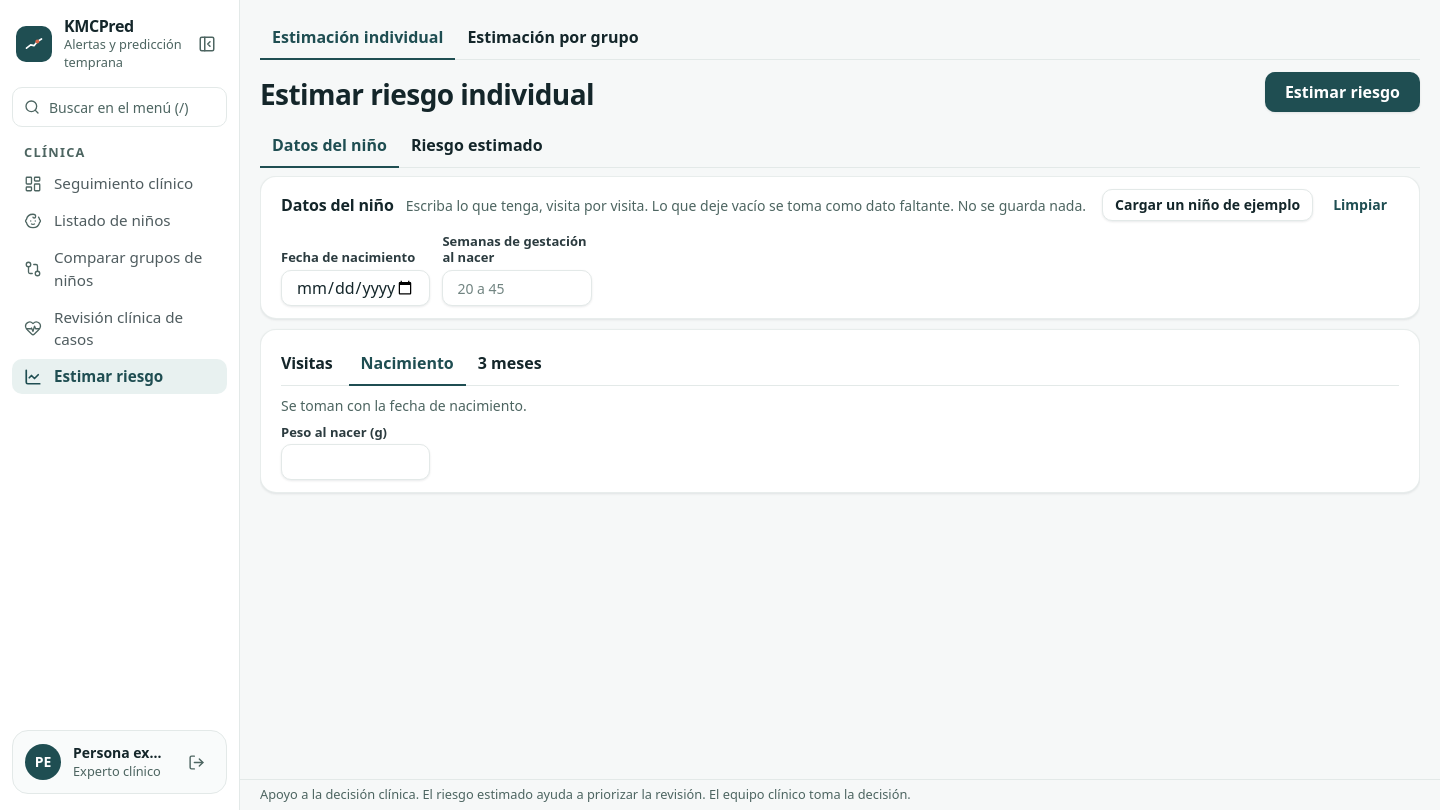
it: Calcular un niño en pestañas › al calcular aparecen las pestañas del resultado y se abre la primera
This screenshot has width=1440, height=810.
Type "2026-01-10" into the date field labelled "Fecha de nacimiento" at (356, 288), box [281,270,430,306]
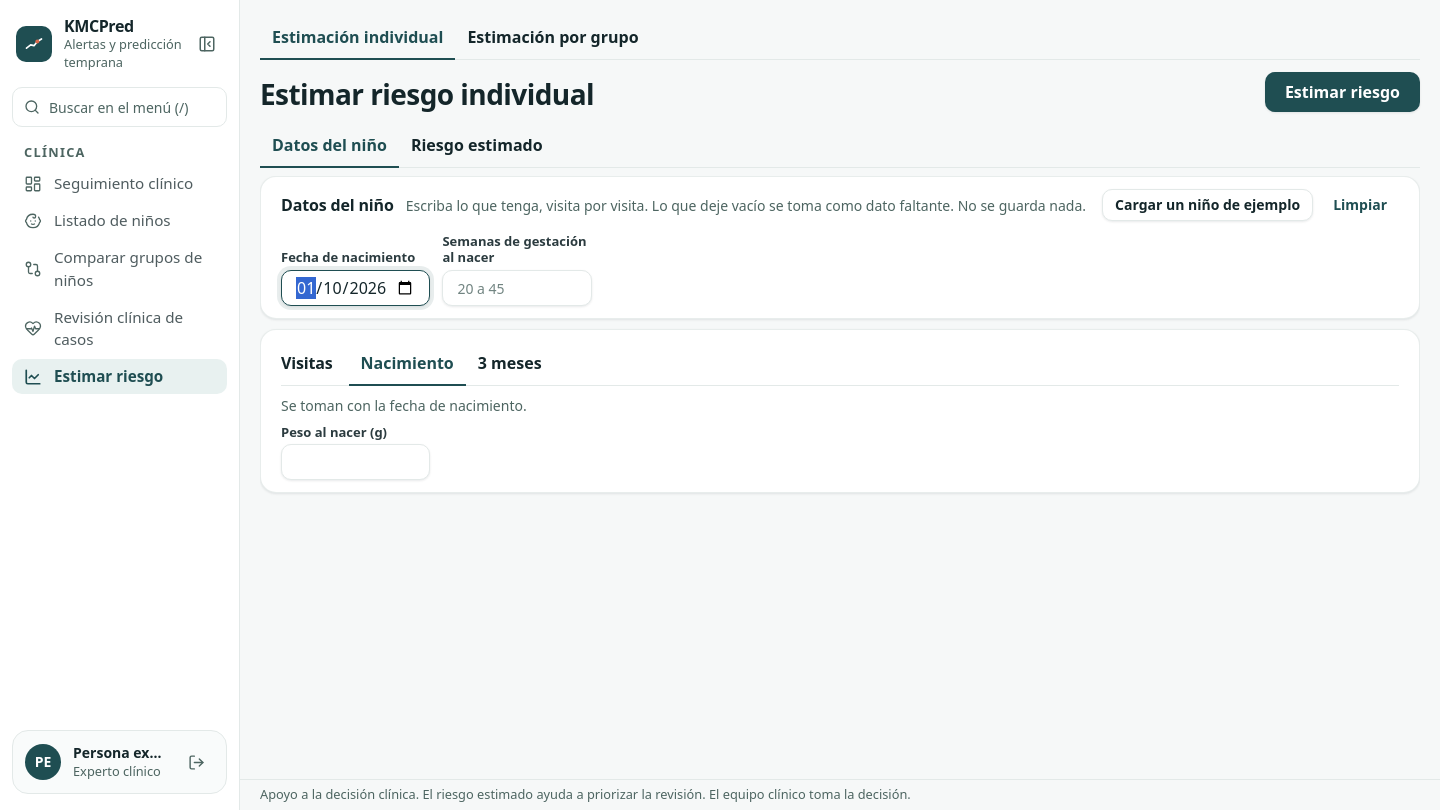
Type "30" into the field labelled "Semanas de gestación al nacer" at (517, 288), box [442,270,592,306]
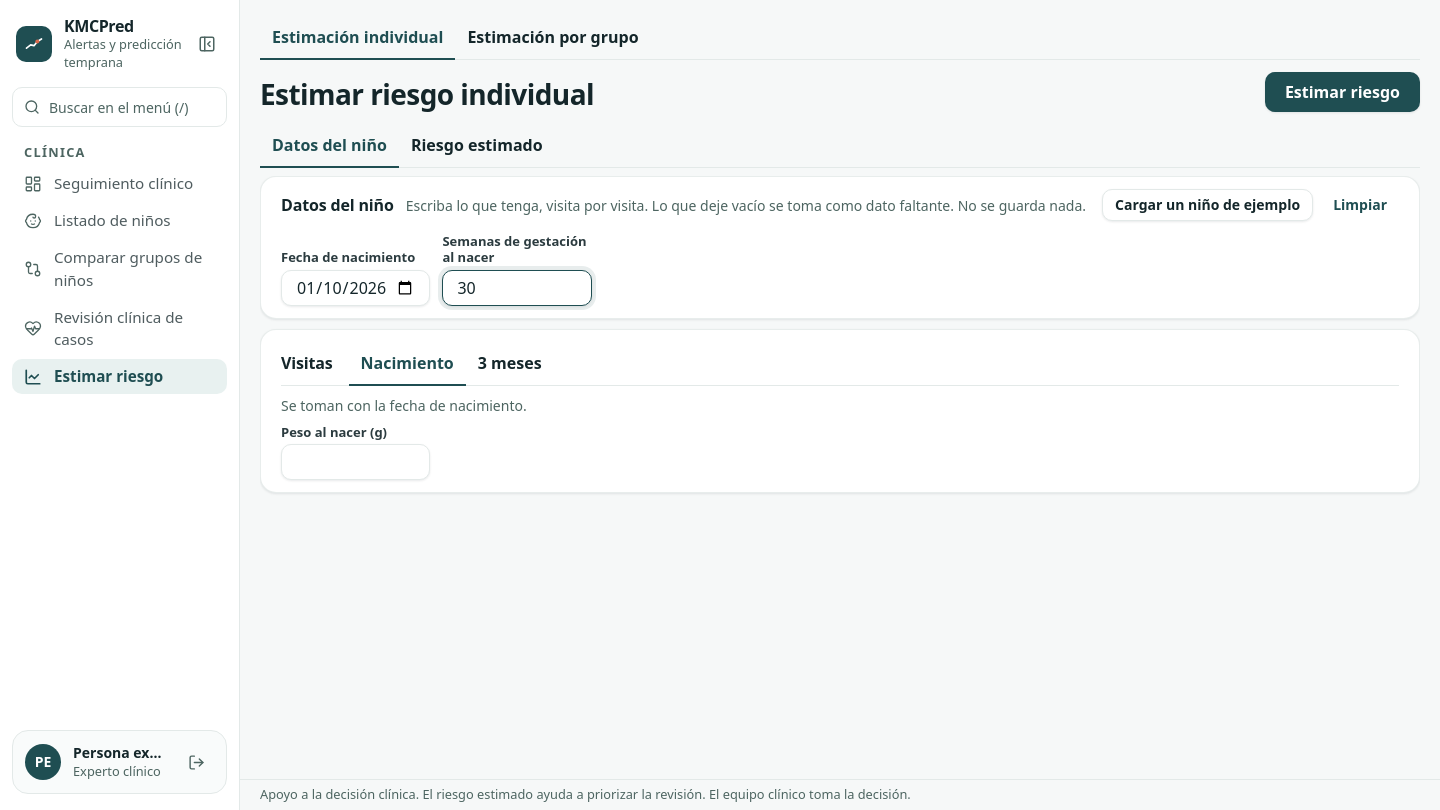
Type "900" into the field labelled "Peso al nacer (g)" at (356, 462), box [281,444,430,480]
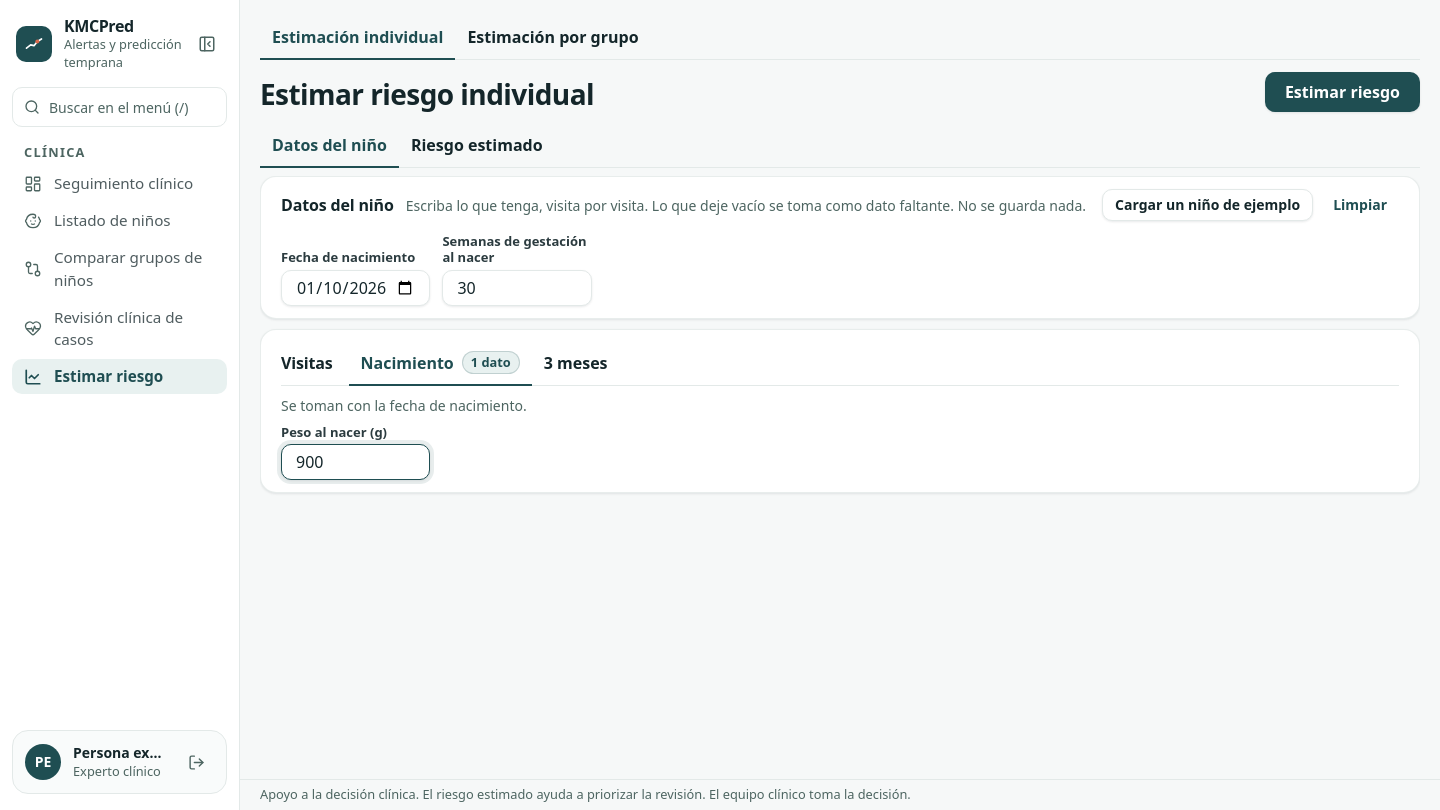
Click the button "Estimar riesgo" at (1342, 92), box [1265,72,1420,112]
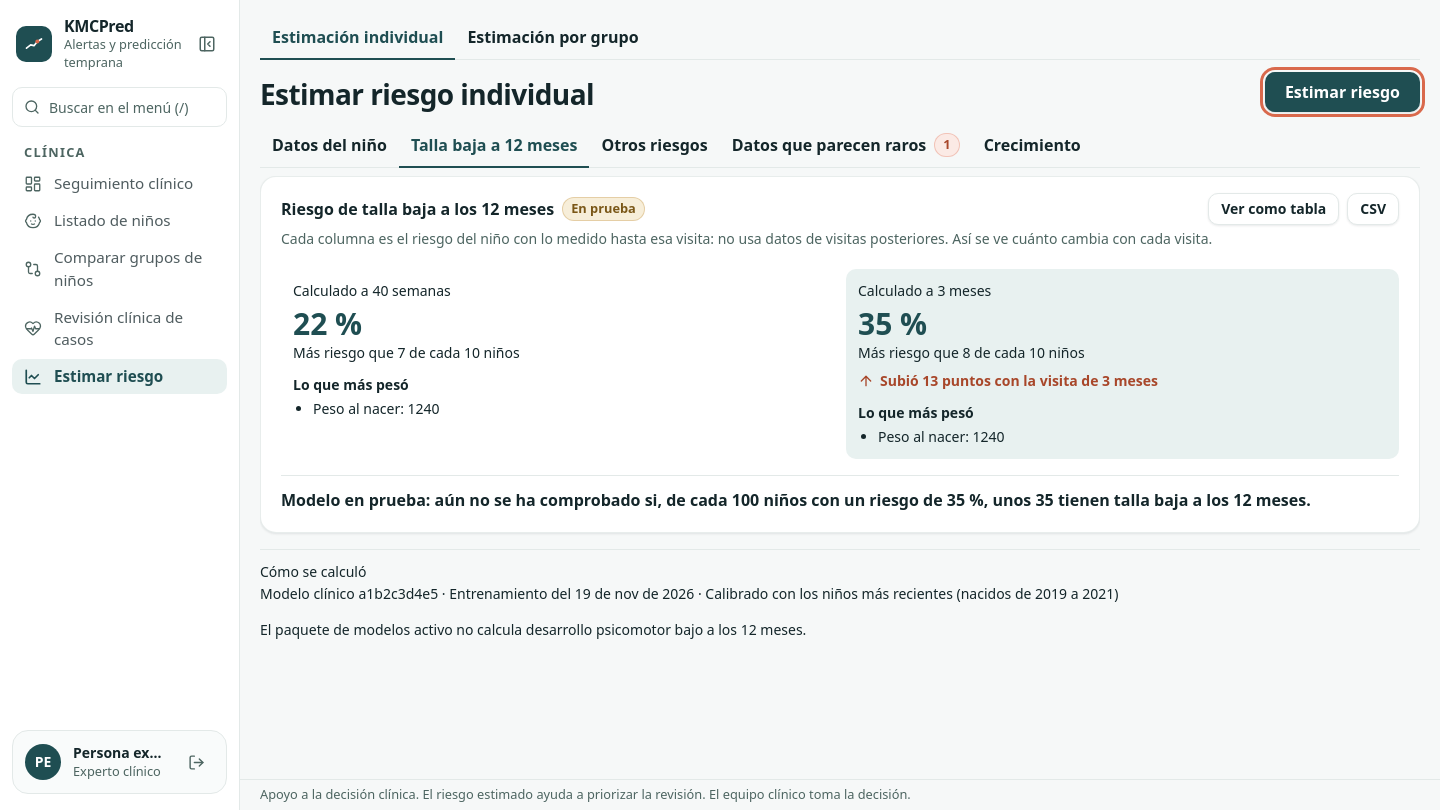
Expected: the heading "Calculado a 3 meses" is shown, [858,281,991,300]
Click the tab "Datos que parecen raros 1" at (846, 146), box [720,124,972,168]
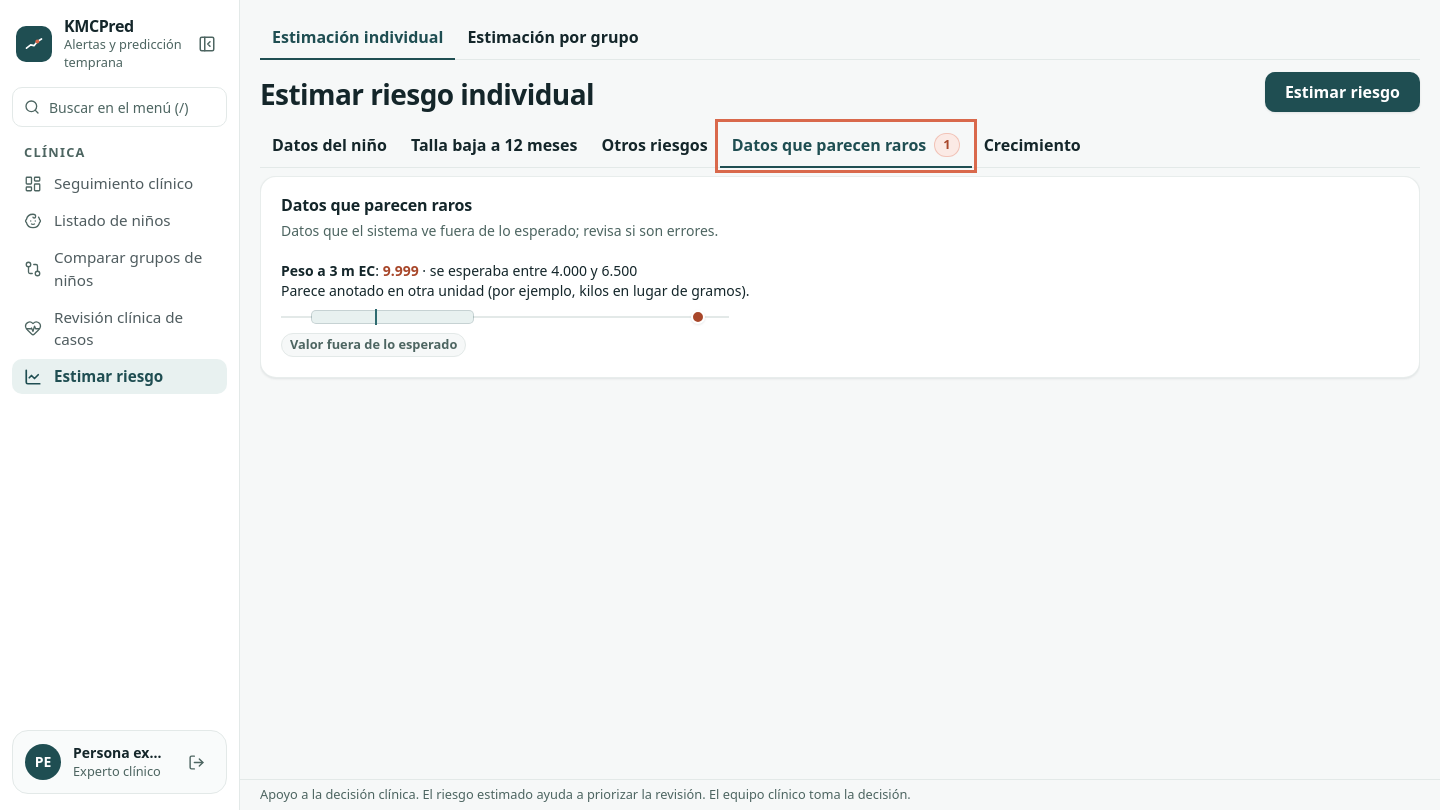
Expected: the text "Parece anotado en otra unidad (por ejemplo, kilos en lugar de gramos)." is shown, [281,281,749,300]
